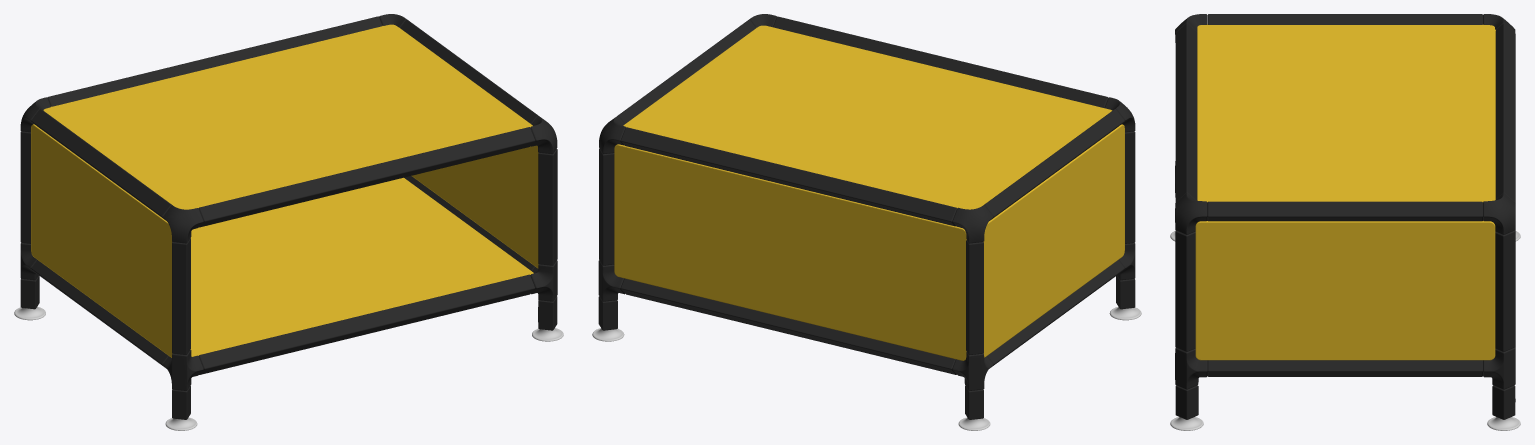
3 renders of one model, left to right at view 1: azimuth 30°, elevation 25°; view 2: azimuth 150°, elevation 25°; view 3: azimuth 270°, elevation 25°, orthographic. The views are drawn at different scales.
Visible parts, largest first — view 1: 479x329x154; view 2: 479x329x154; view 3: 479x329x154.
Boxes of the visible parts, x1,y1,x2,y2 form: 479x329x154: (14, 14, 563, 430); 479x329x154: (592, 14, 1141, 430); 479x329x154: (1170, 14, 1520, 430).
Size of the model in its own units: 0.5689 by 0.2933 by 0.4182.
